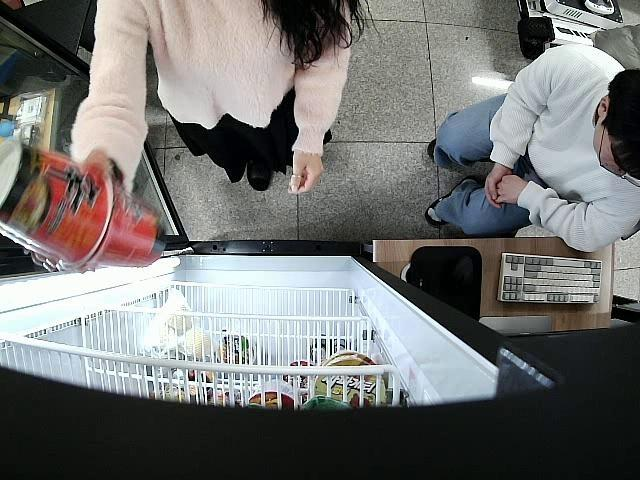02_shinRamen_S: (0, 140, 108, 264), (112, 182, 169, 268)
